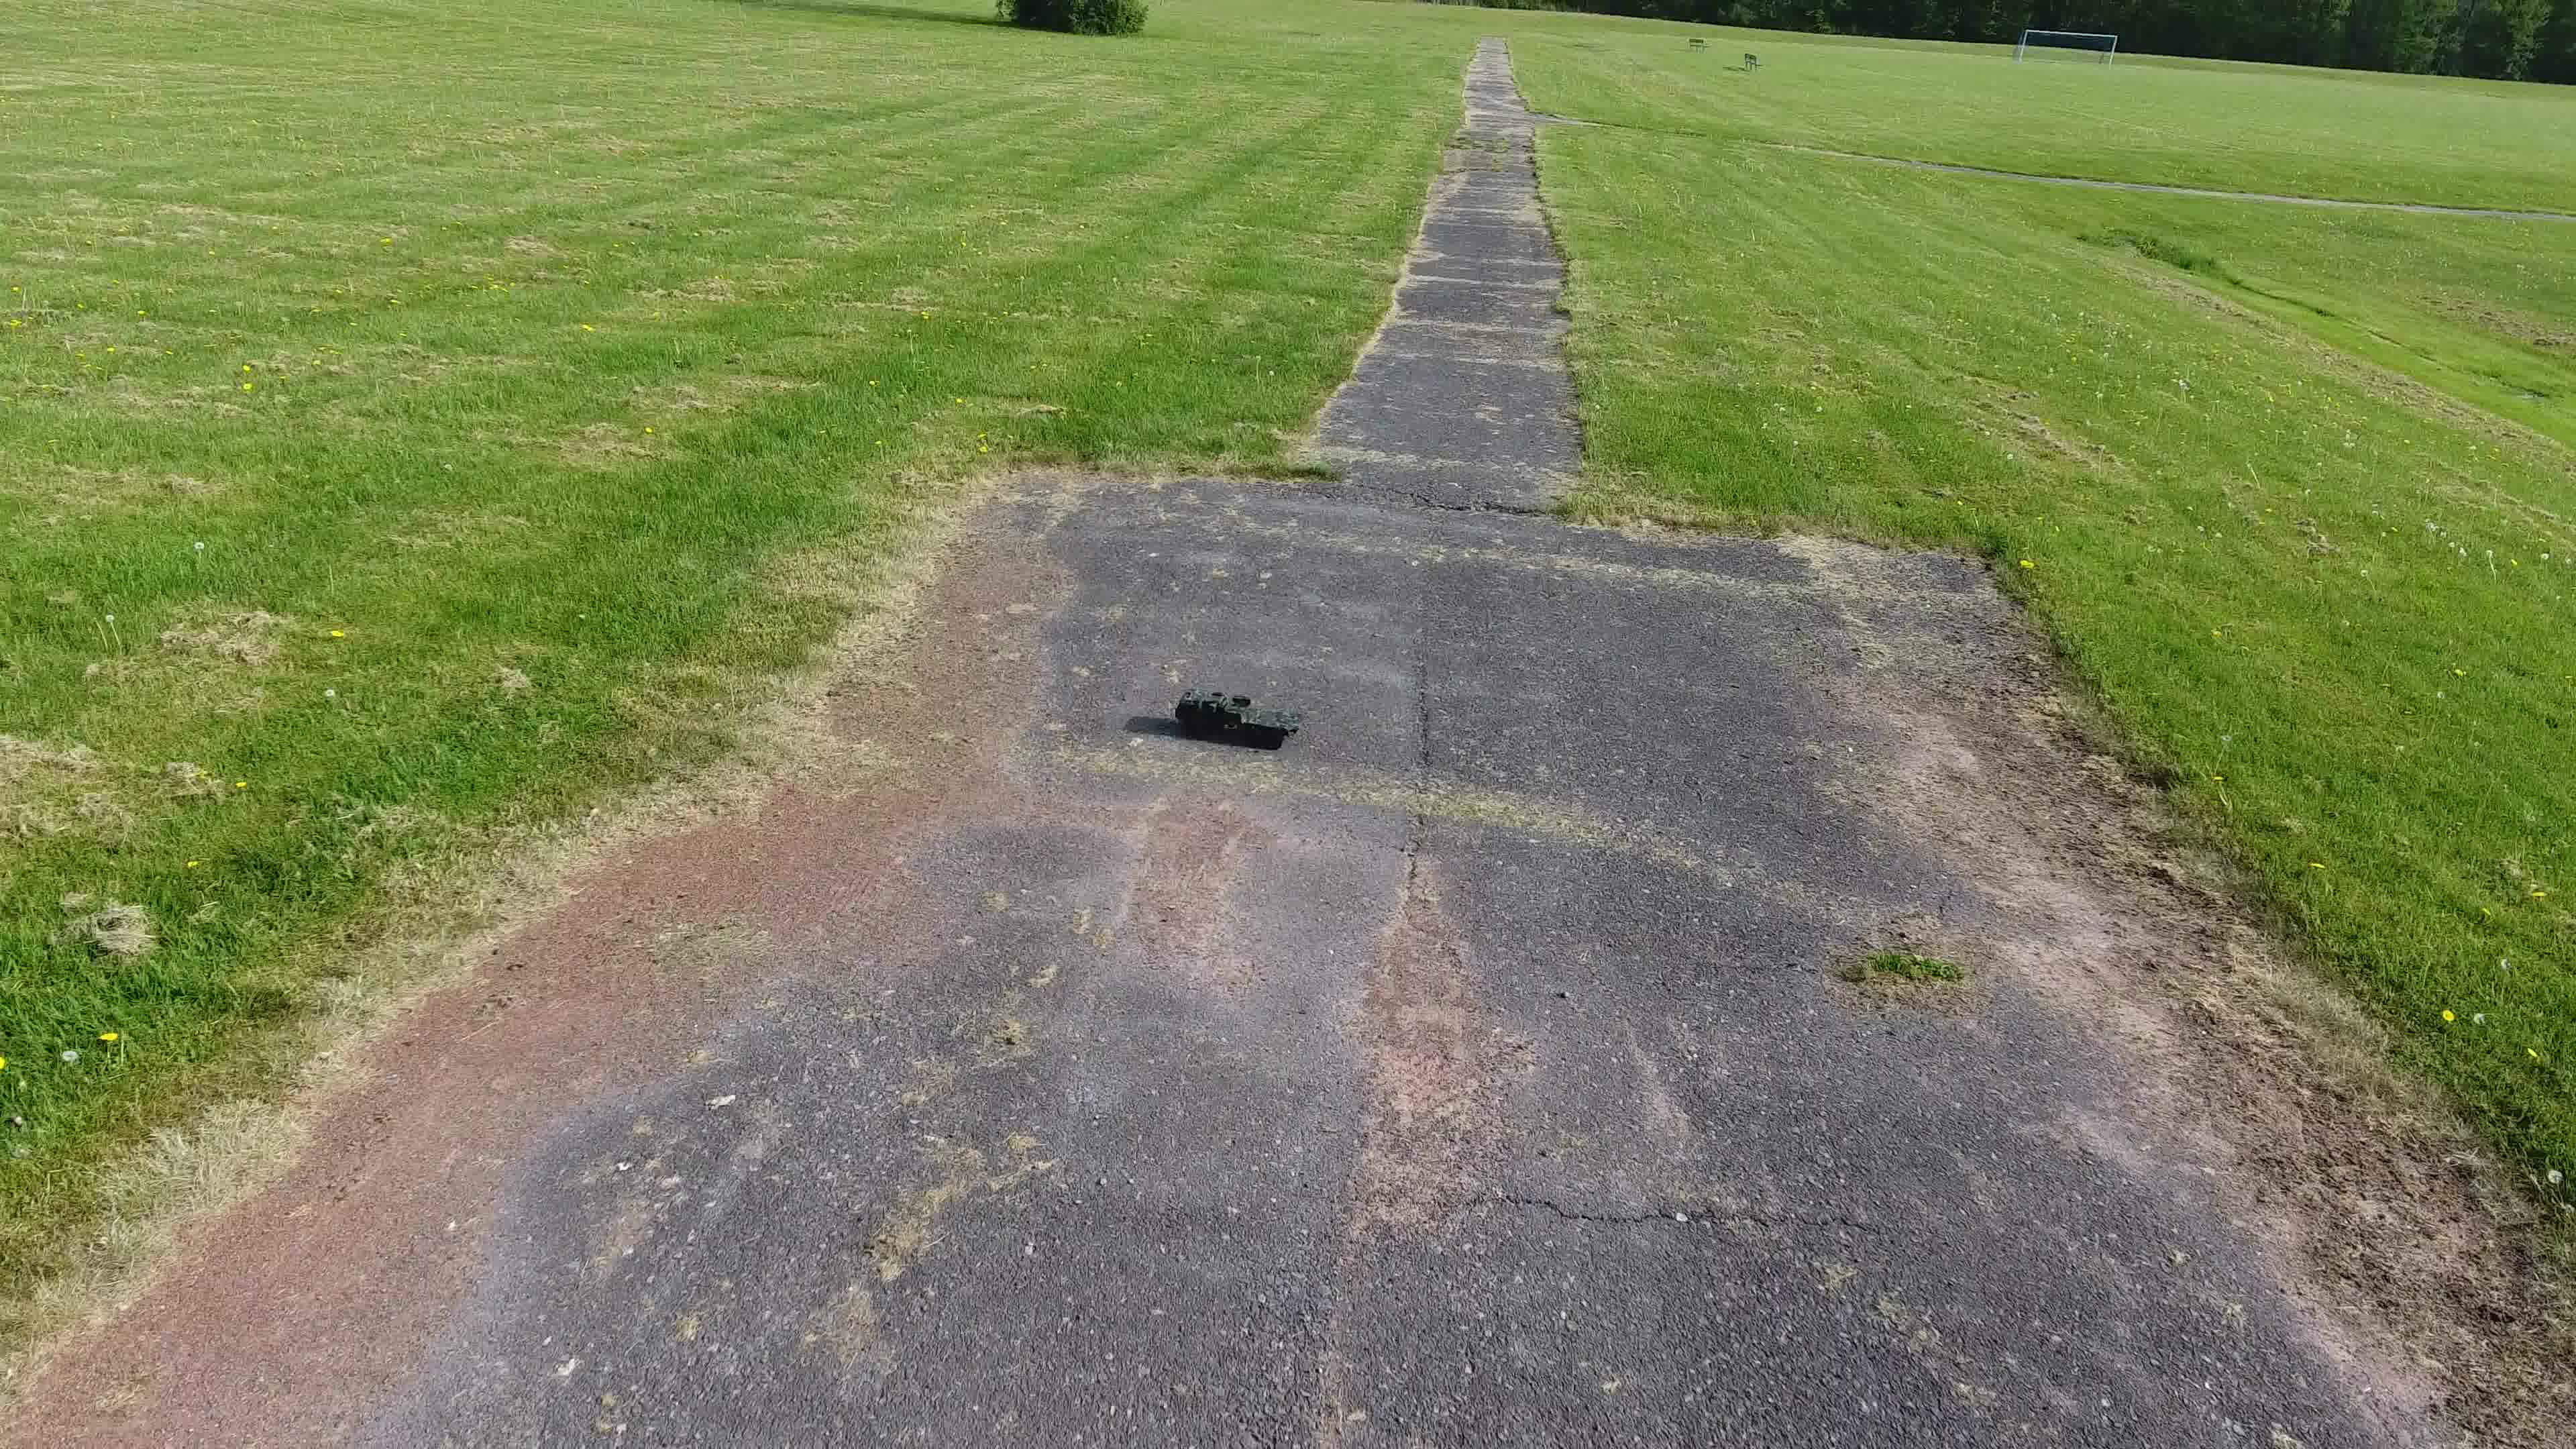transporter9: (1175, 686, 1304, 748)
